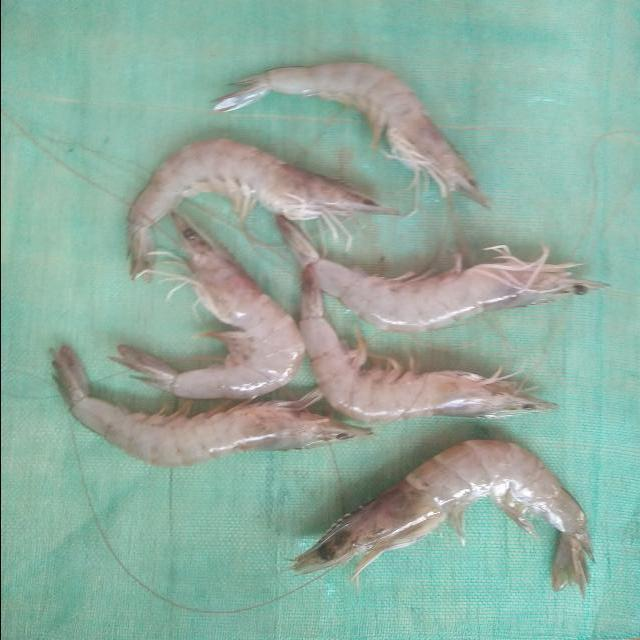shrimp: (291, 440, 593, 596), (298, 264, 557, 423), (212, 61, 488, 207), (125, 138, 398, 283), (51, 345, 371, 467), (276, 215, 605, 333), (109, 214, 304, 399)
